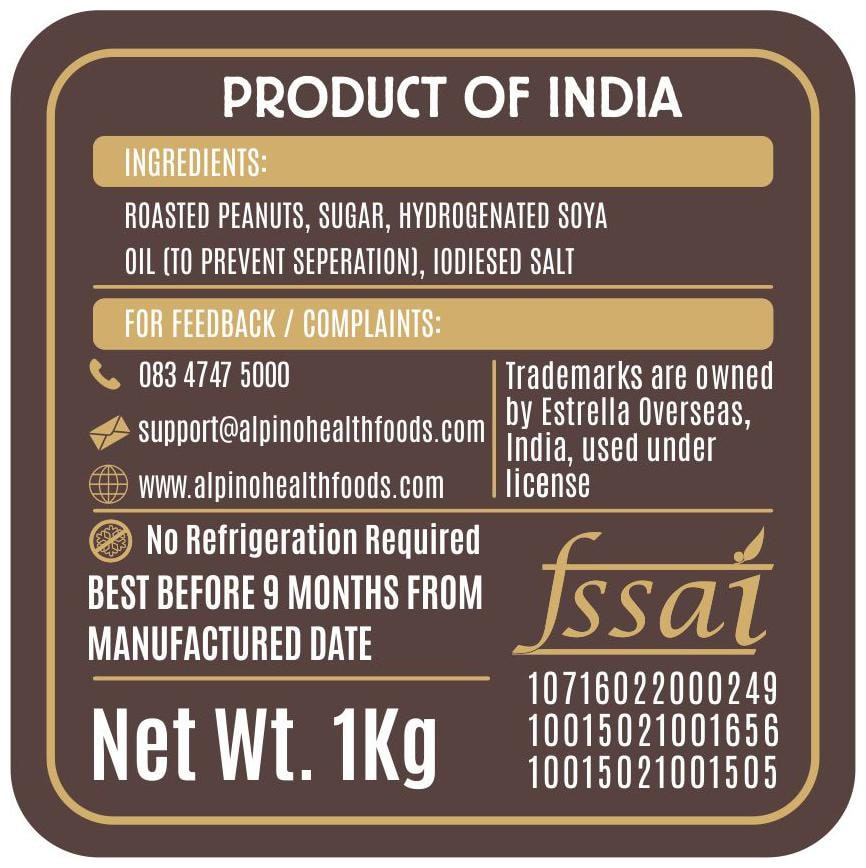fssai: (510, 528, 777, 657)
